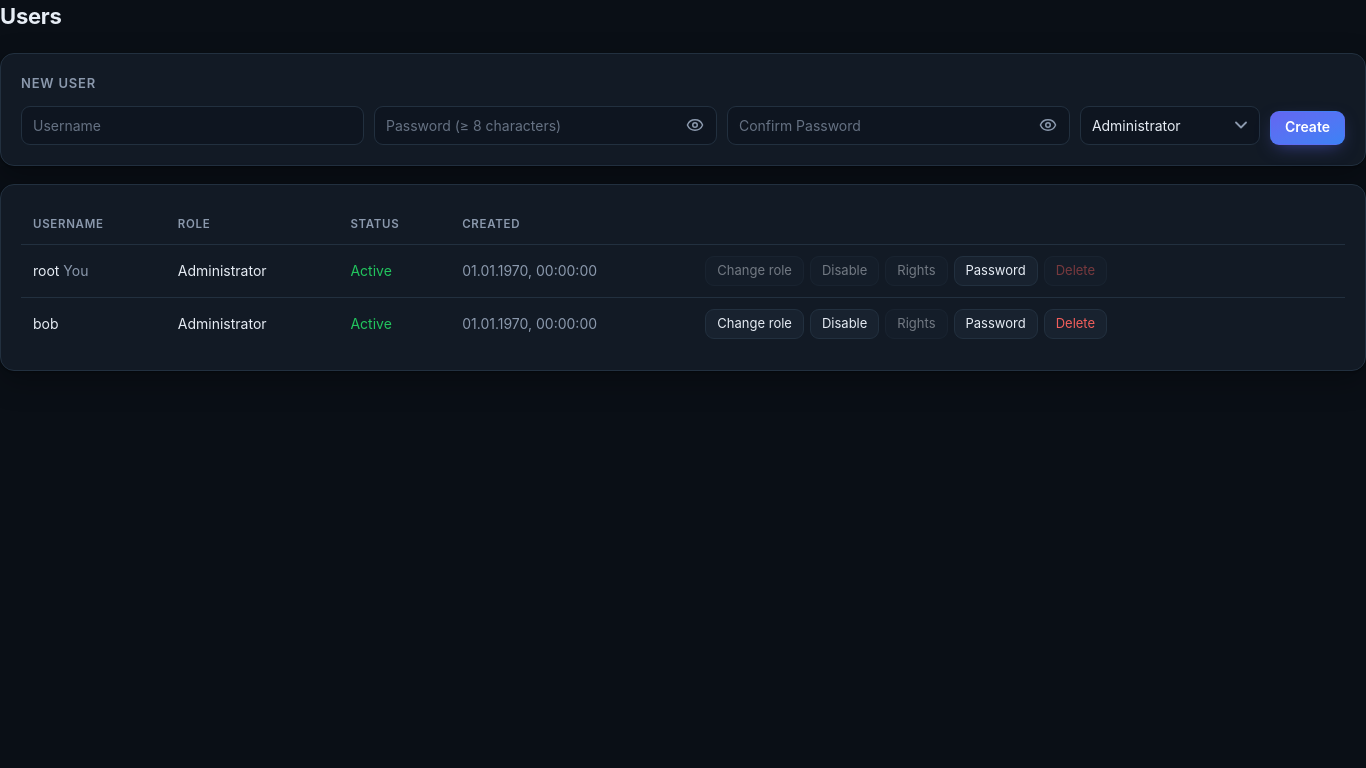
Test: role change › an administrator can be assigned another role: first demotion, then assignment
Later steps or results of the test are not shown.
Click the button "Change role" in the row of "bob". click: (755,324)
box: [705,309,804,339]
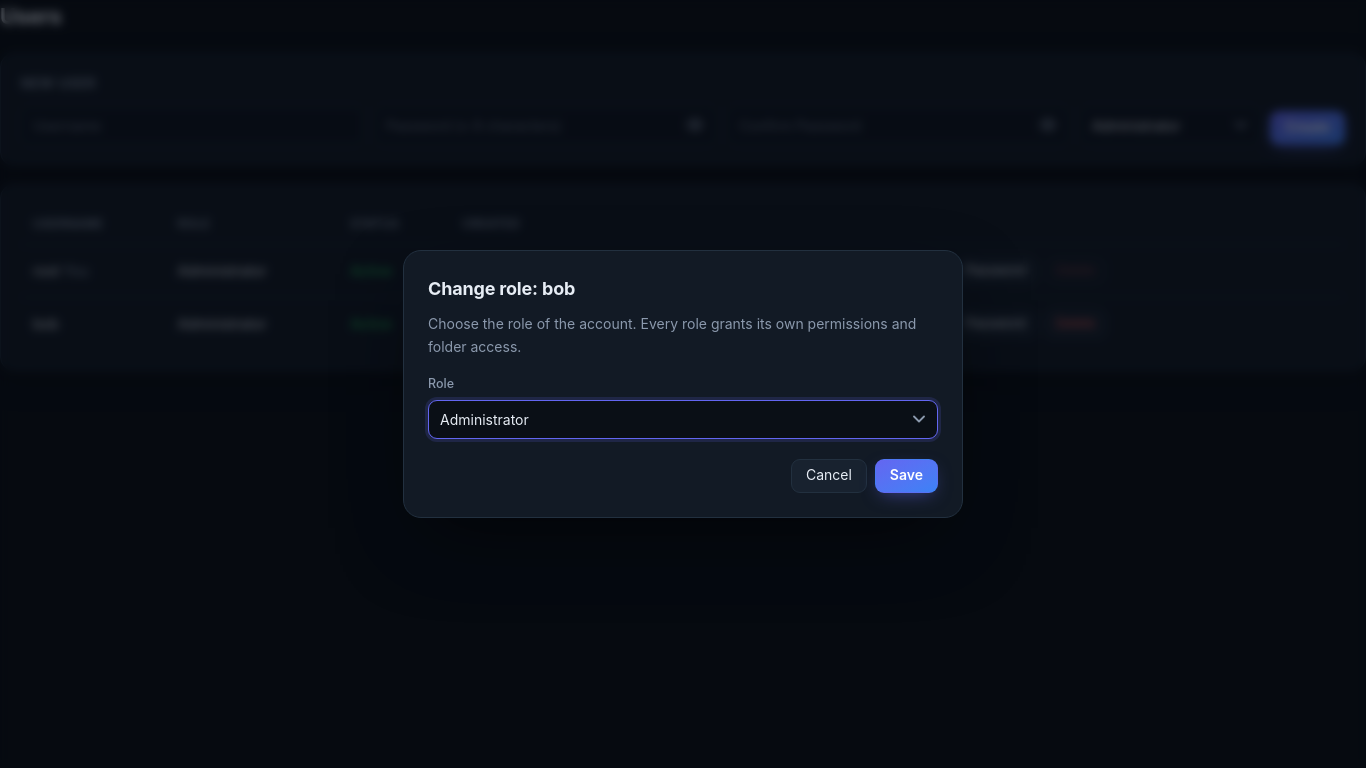
Expected: the dropdown labelled "Role" shows "Administrator", [428,400,938,439]
